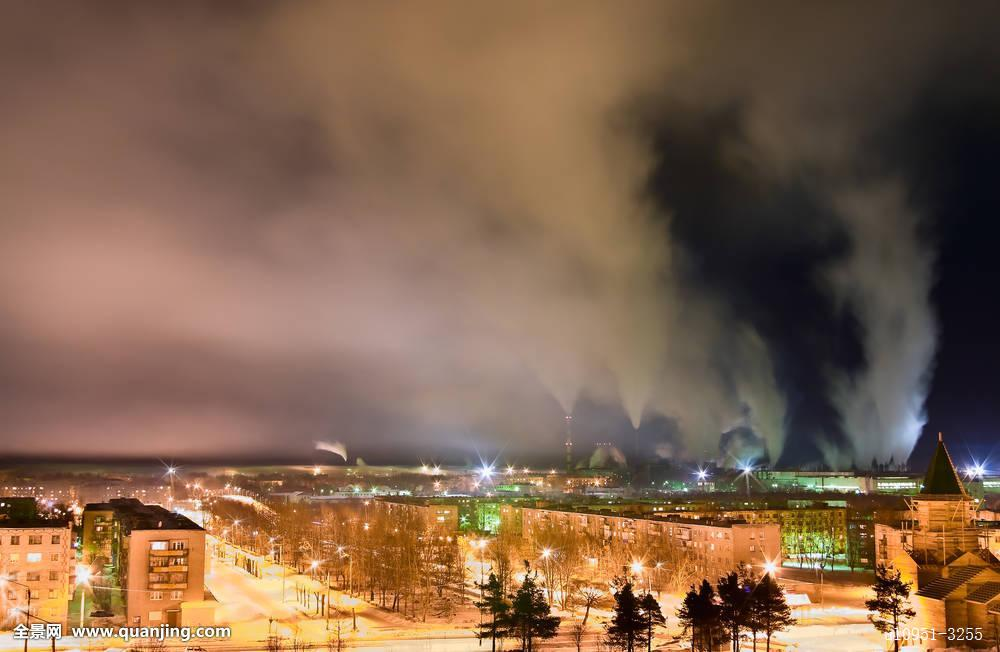dust: (814, 324, 941, 479), (611, 352, 654, 440), (544, 356, 588, 433)
